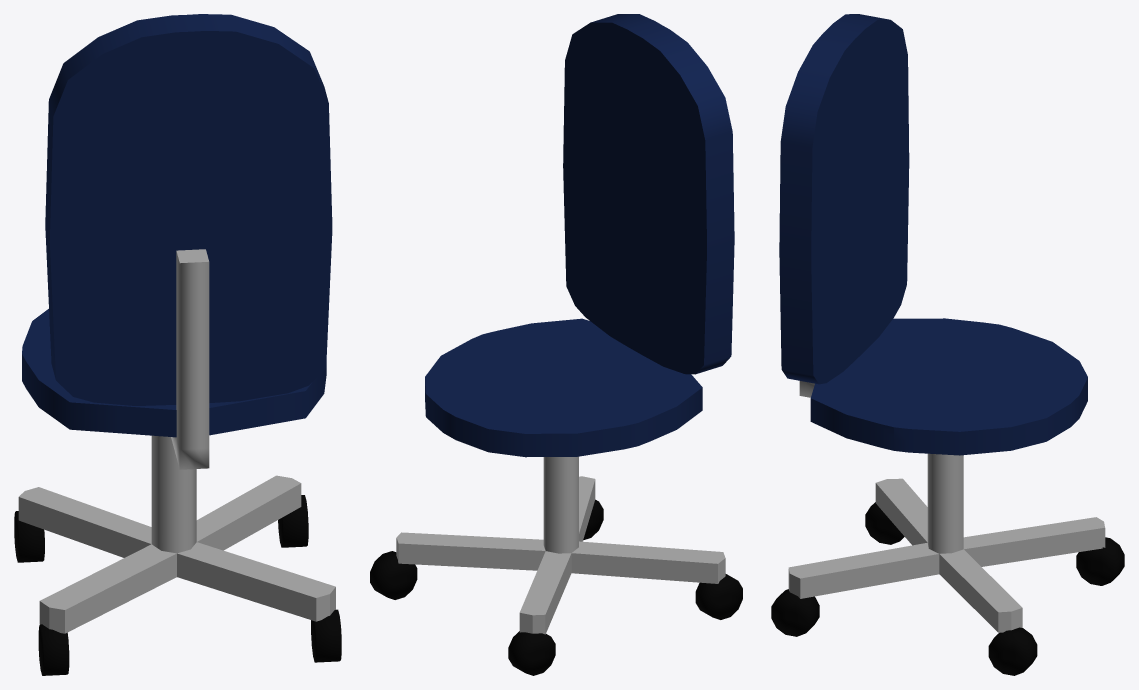
File: simple_low_poly_office_chair.glb
3 views of the same model, side by side, from view 1: azimuth 30°, elevation 25°; view 2: azimuth 150°, elevation 25°; view 3: azimuth 270°, elevation 25° (orthographic). The views are drawn at different scales.
Parts seen in each view (by area): view 1: polySurface3020; view 2: polySurface3020; view 3: polySurface3020.
Part boxes in pixels (x1=…): polySurface3020: x1=14, y1=14, x2=341, y2=675; polySurface3020: x1=370, y1=14, x2=742, y2=675; polySurface3020: x1=771, y1=14, x2=1124, y2=675.
Size of the model in its own units: 8.33 by 14.67 by 8.48.
